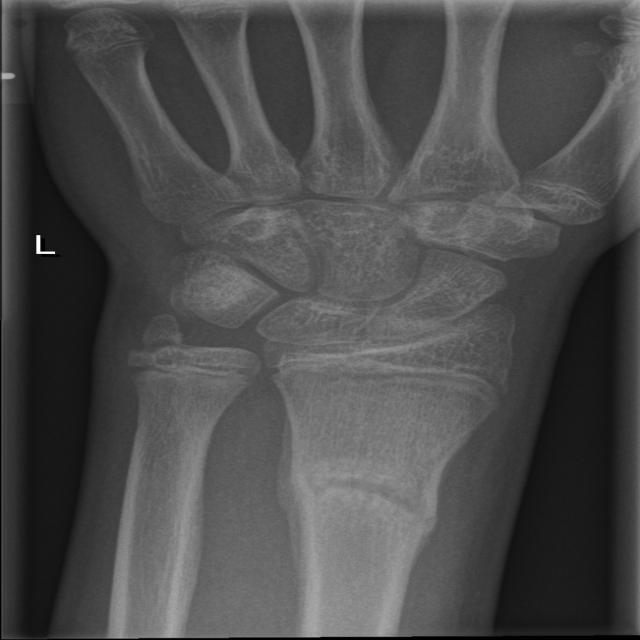radius fracture: (250, 424, 481, 617)
ulna fracture: (96, 323, 248, 499)
